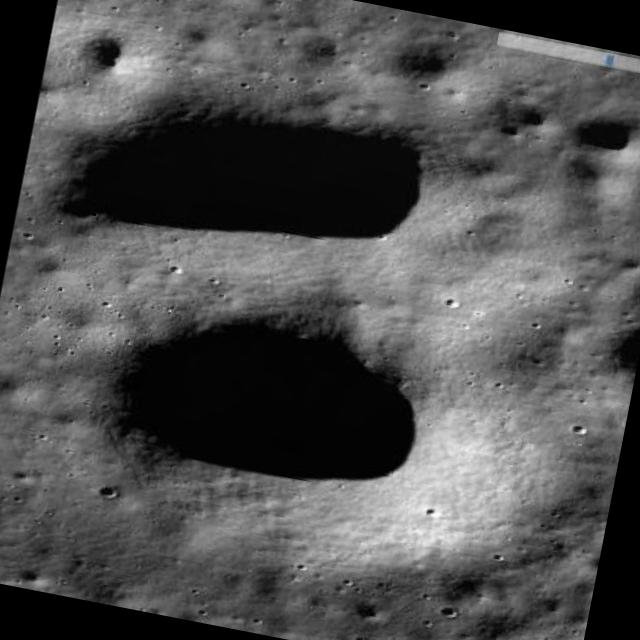crater: (94, 281, 441, 510), (62, 80, 442, 286), (574, 112, 640, 160)
